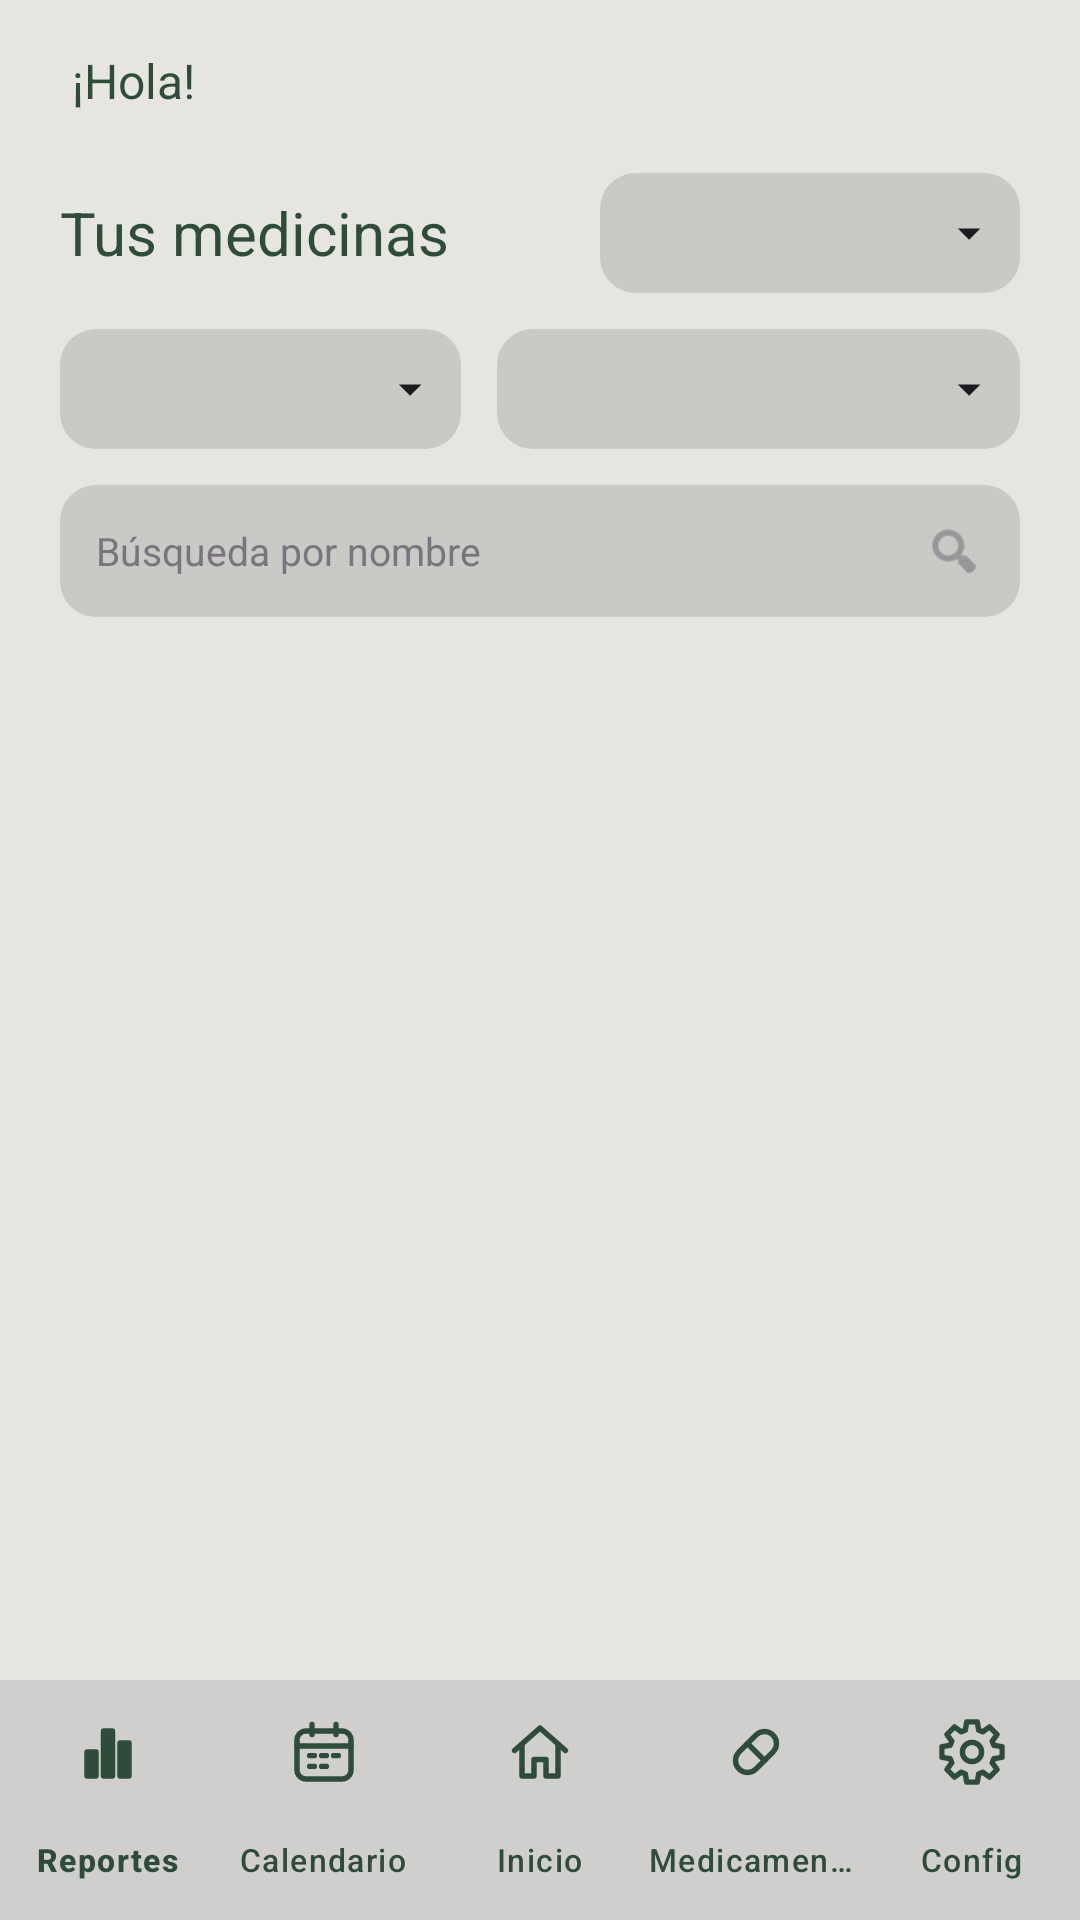

Icon bounding boxes for this 1080*1920 phone screenshot, format (x1, y1, x2, y2):
search: (932, 529, 976, 573)
